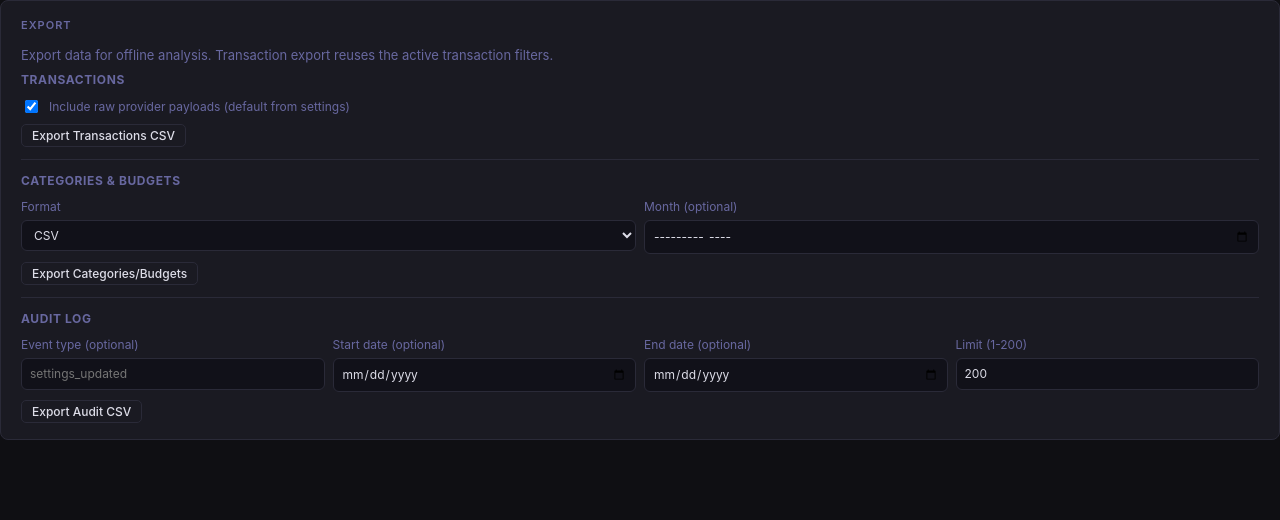
Test: ExportPanel › uses settings default and exports filtered transactions  REQ: ACC-EXP-001, ACC-EXP-003
Expected: the checkbox with test id "export-include-raw-toggle" is checked, [25,100,38,113]
Step 1. Click the button with test id "export-transactions-btn" → (104, 136), box [21,124,186,147]
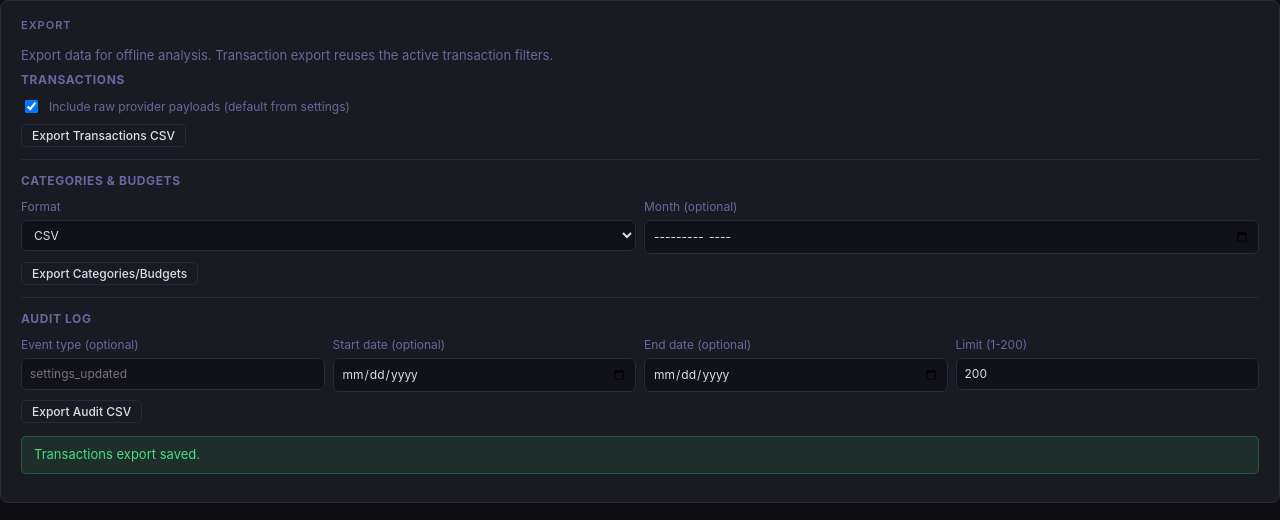
Expected: the text "Transactions export saved." is shown, [21,436,1259,474]
